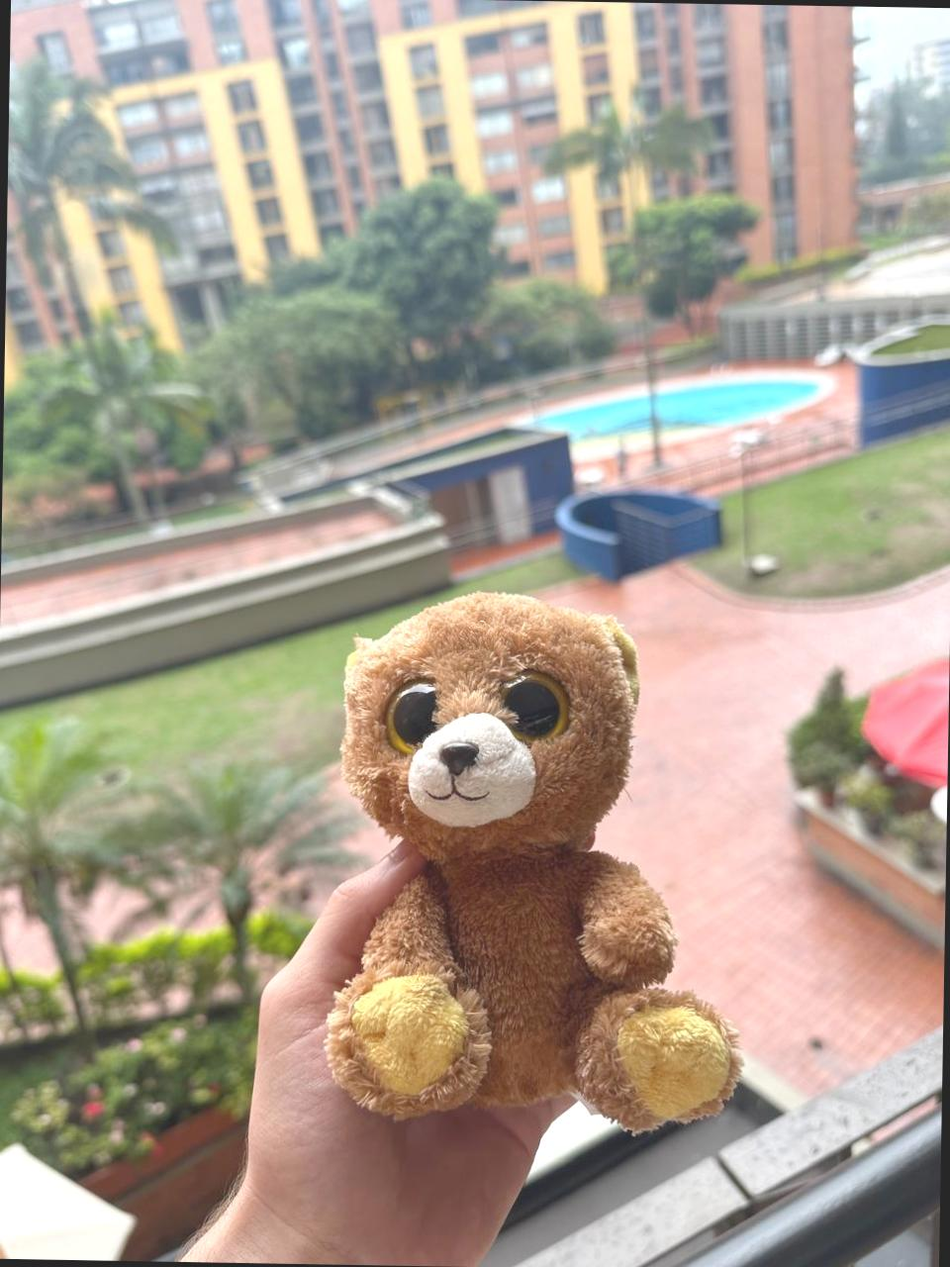peluche_sebastian: (325, 589, 748, 1133)
